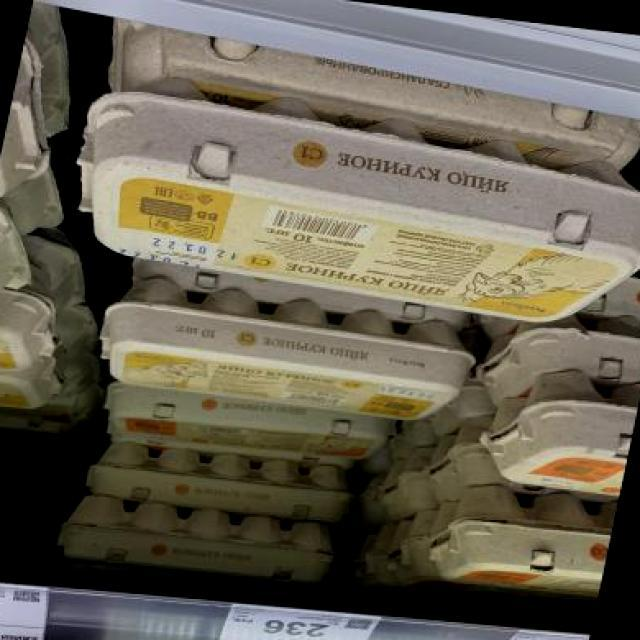Eggs: (46, 65, 640, 338), (84, 276, 489, 436), (95, 381, 391, 466), (478, 364, 640, 497)
